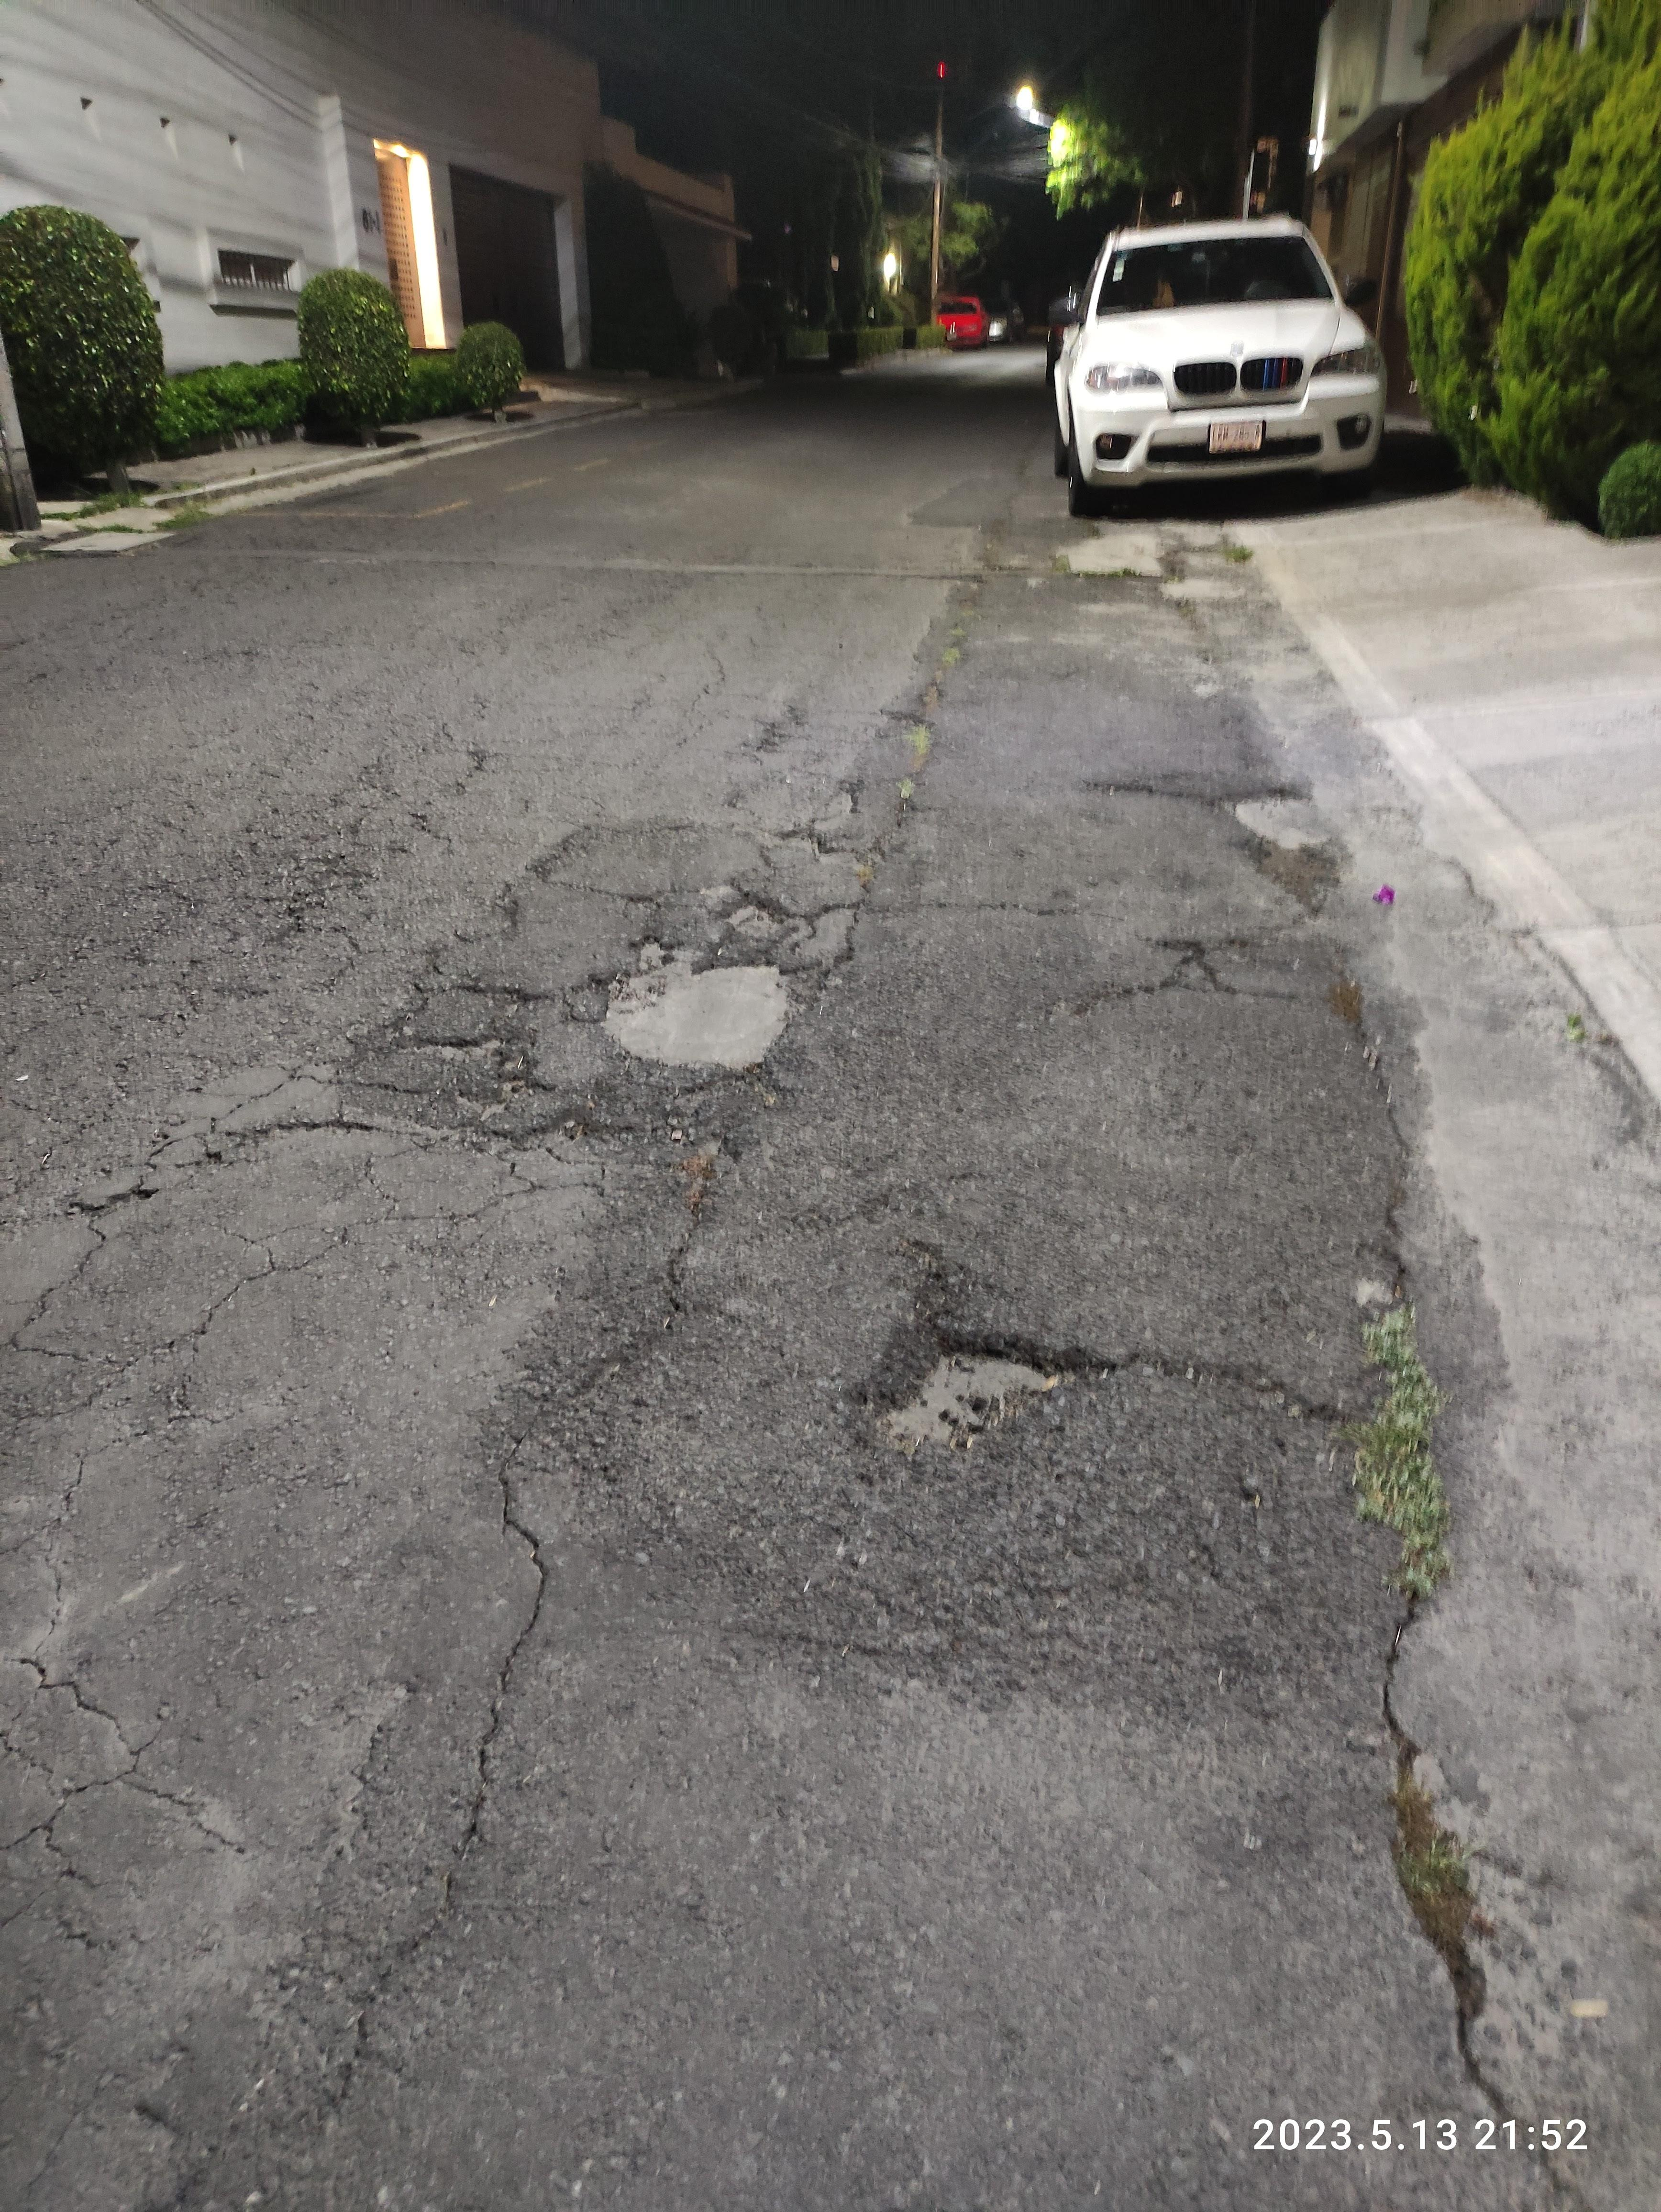alligator-crack: (0, 726, 555, 1458), (0, 1497, 225, 1964), (679, 644, 947, 869)
crack: (1356, 984, 1607, 2212), (265, 1476, 576, 2212), (555, 1122, 742, 1446), (1075, 937, 1298, 1021), (822, 890, 1134, 926)
pothole: (560, 890, 824, 1094), (851, 1315, 1094, 1455)
